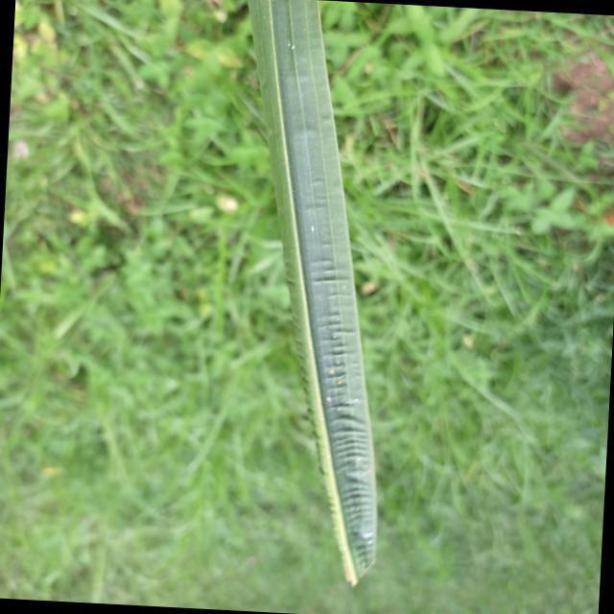Boron: (245, 0, 382, 590)
